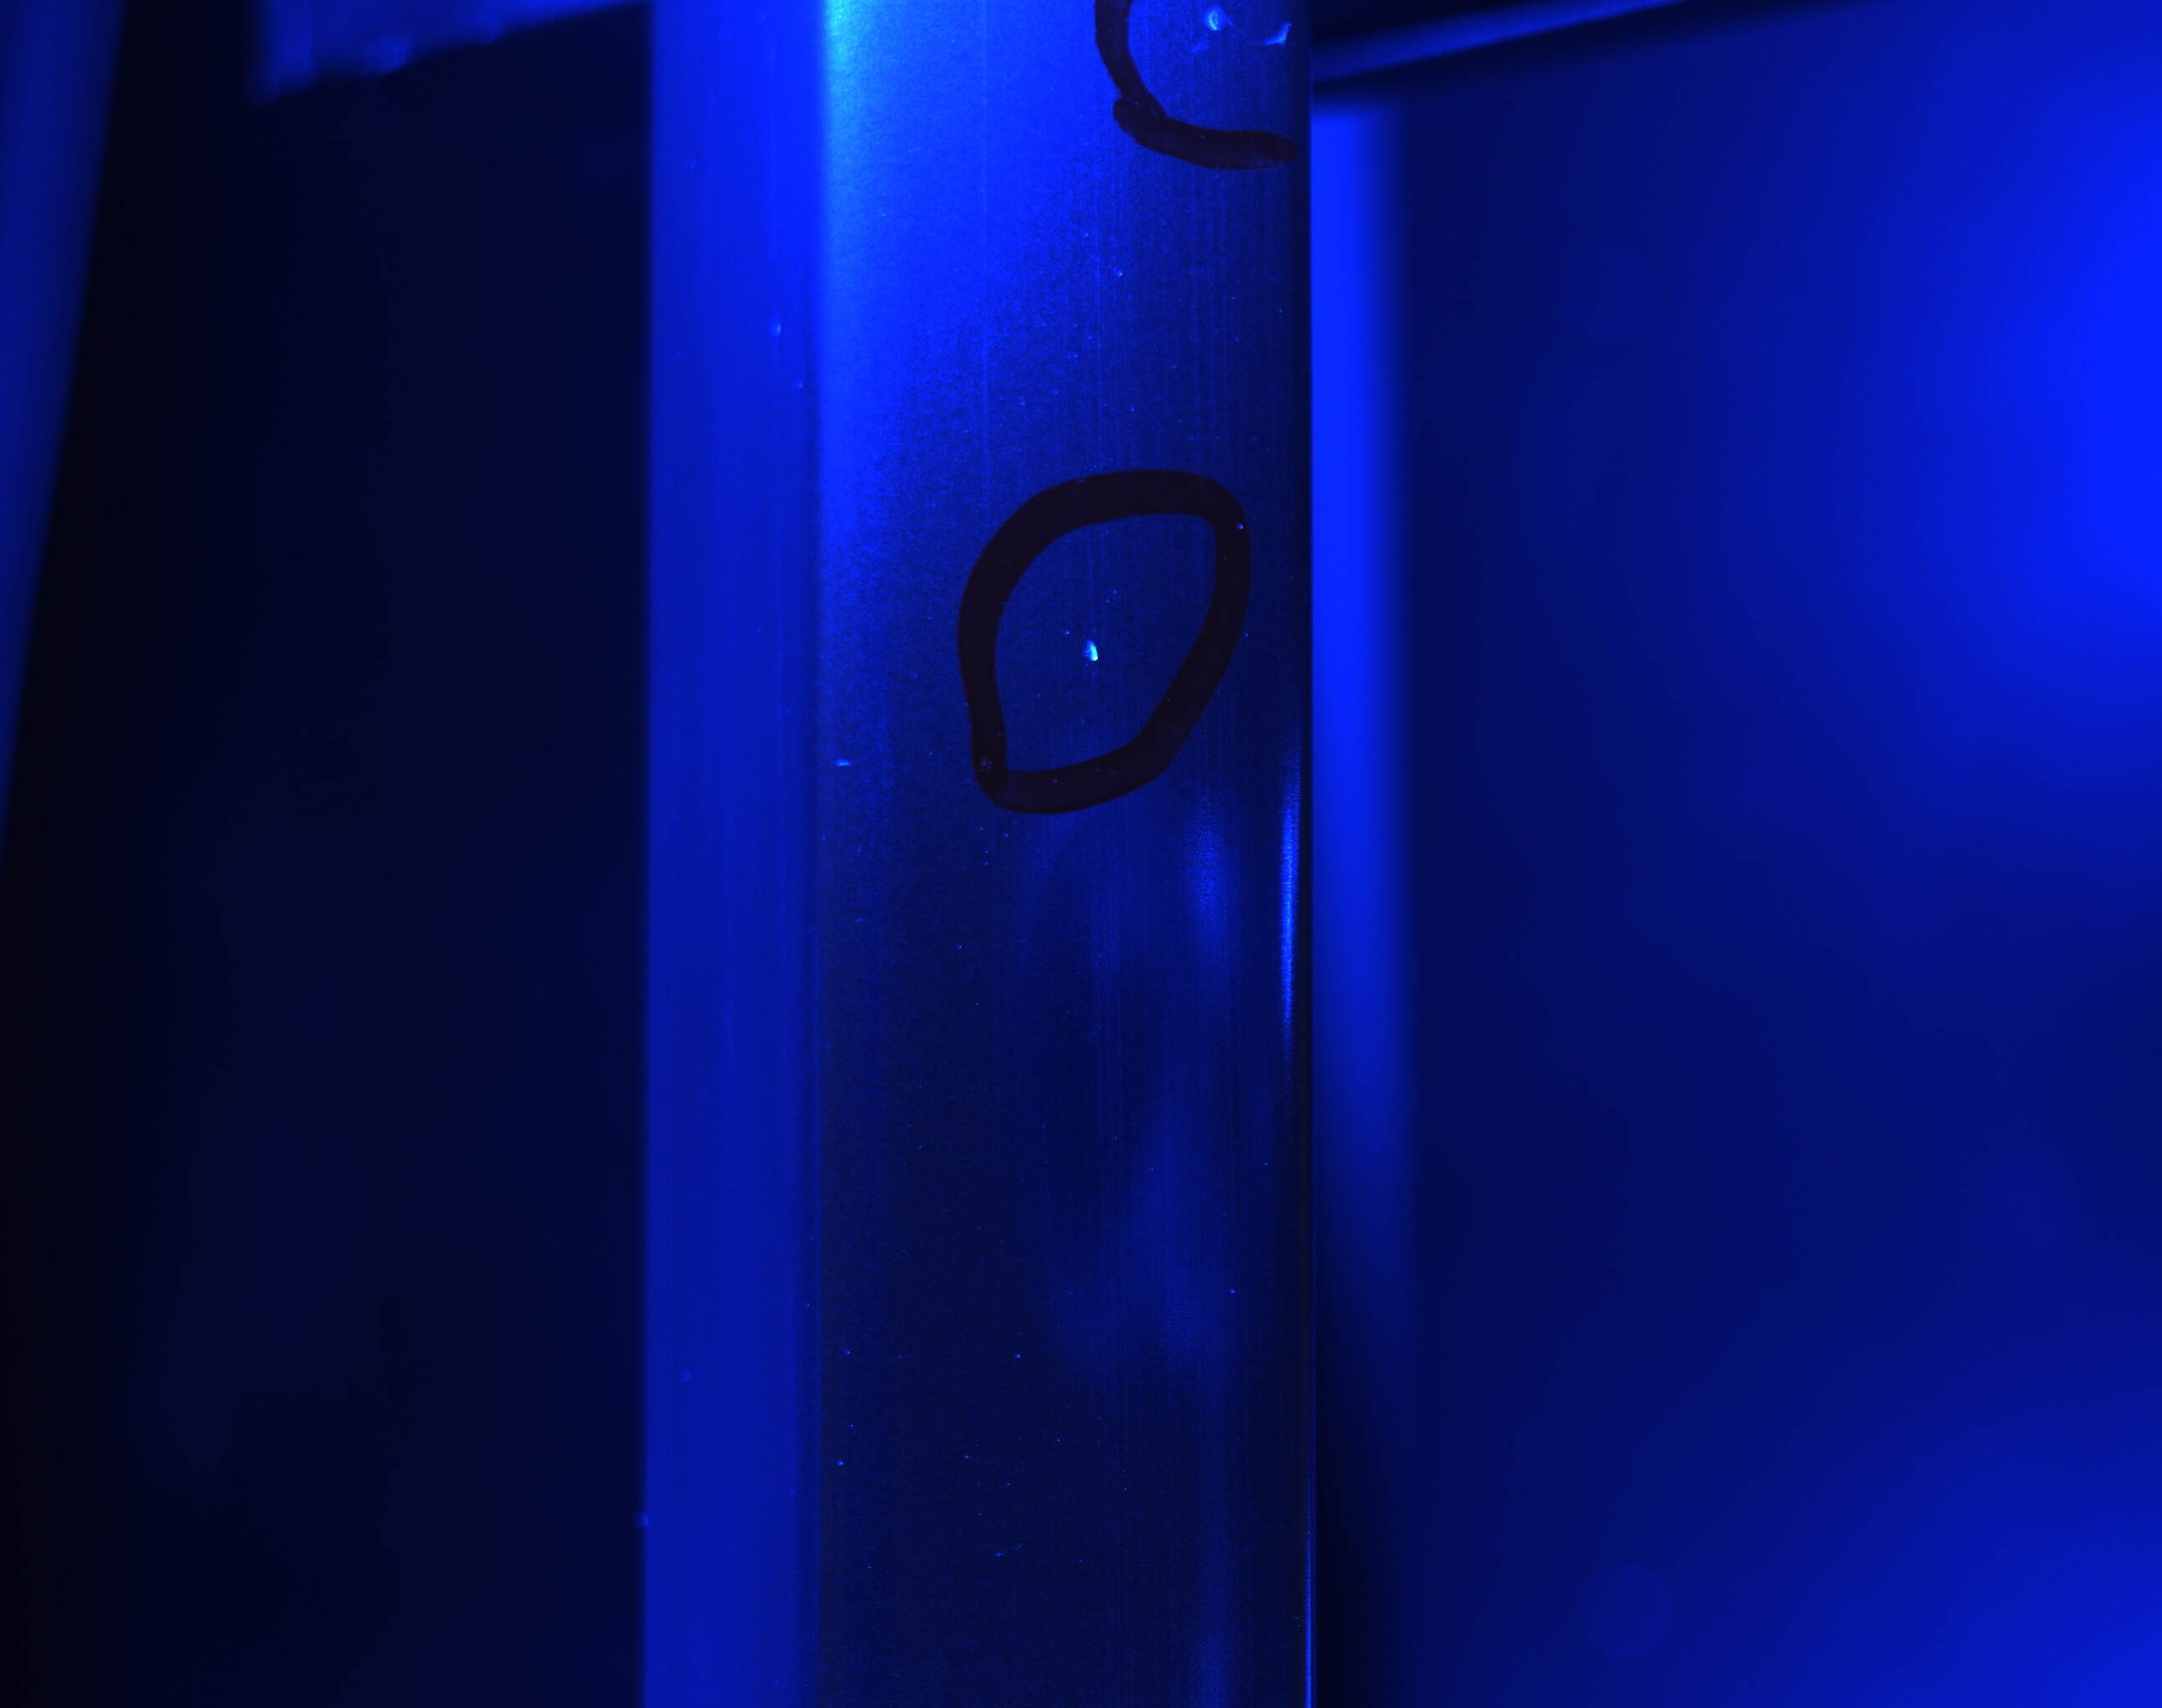NG: (1186, 7, 1300, 75), (1065, 625, 1121, 688)
